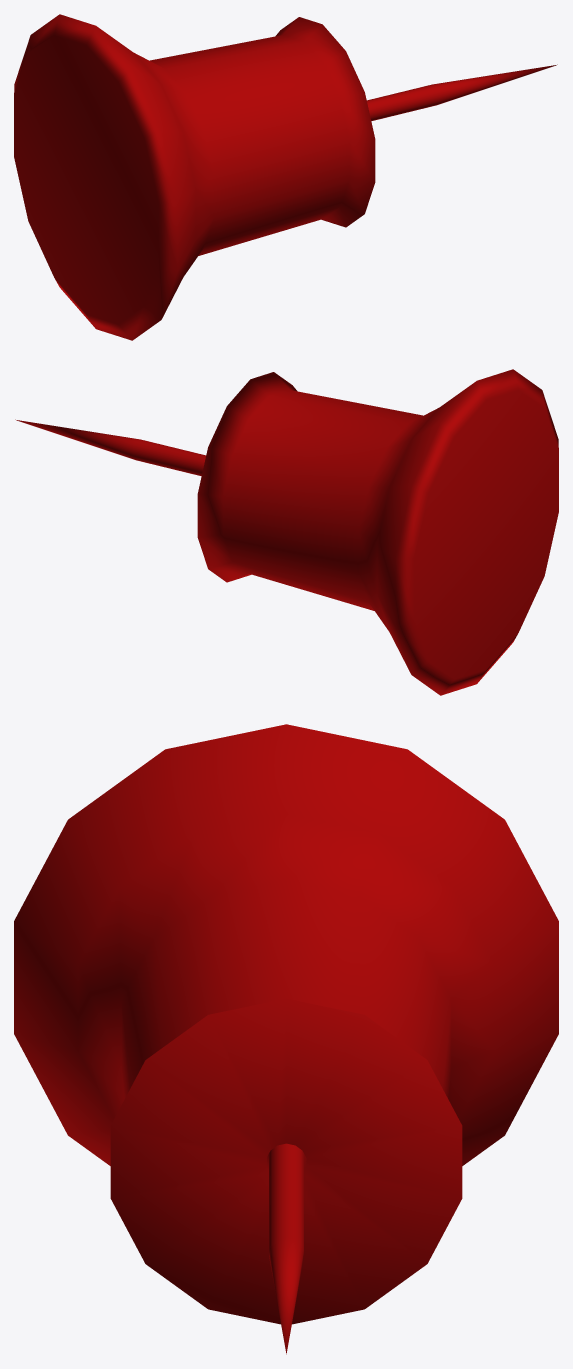
File: Tack.fbx
3 views of the same model, one above another, from view 1: azimuth 30°, elevation 25°; view 2: azimuth 150°, elevation 25°; view 3: azimuth 270°, elevation 25° (orthographic). The views are drawn at different scales.
Visible parts, largest first — view 1: PaperClip2; view 2: PaperClip2; view 3: PaperClip2.
Boxes of the visible parts, x1,y1,x2,y2 form: PaperClip2: [14, 14, 557, 340]; PaperClip2: [15, 369, 558, 695]; PaperClip2: [14, 724, 558, 1354].
Size of the model in its own units: 0.029 by 0.0178 by 0.0173.
